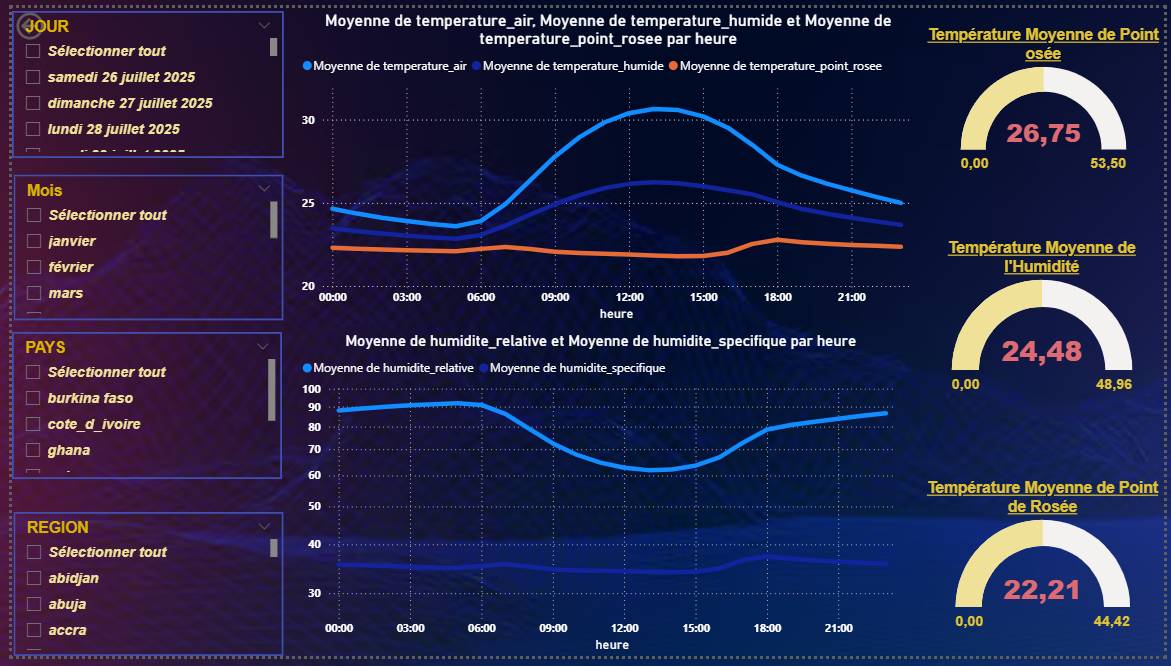

The page's visual inventory and layout, read from the dashboard file:
{"tool":"powerbi","page":{"name":"Température & Humidité","canvas":[1280,720],"ordinal":0},"visuals":[{"type":"gauge","title":"Température Moyenne de Point osée","fields":{"Y":["Avg(Météo_project.temperature_air)"]},"box":[1011.7,20,268.3,170],"z":0},{"type":"gauge","title":"Température Moyenne de l''Humidité","fields":{"Y":["Avg(Météo_project.temperature_humide)"]},"box":[1008.3,256.7,271.7,178.3],"z":1000},{"type":"lineChart","fields":{"Category":["Météo_project.heure"],"Y":["Avg(Météo_project.temperature_air)","Avg(Météo_project.temperature_humide)","Avg(Météo_project.temperature_point_rosee)"]},"box":[316.7,3.3,691.7,348.3],"z":2000},{"type":"lineChart","fields":{"Category":["Météo_project.heure"],"Y2":["Avg(Météo_project.humidite_specifique)"],"Y":["Avg(Météo_project.humidite_relative)"]},"box":[316.7,360,675,360],"z":3000},{"type":"actionButton","box":[0,0,100,40],"z":4000},{"type":"gauge","title":"Température Moyenne de Point de Rosée","fields":{"Y":["Météo_project.Température Moyenne de point_rosee"]},"box":[1010,523.3,270,175],"z":5000},{"type":"slicer","fields":{"Values":["Météo_project.date"]},"box":[0,3.3,301.7,163.3],"z":6000},{"type":"slicer","fields":{"Values":["Météo_project.pays"]},"box":[0,360.4,299.8,163.5],"z":7000},{"type":"slicer","fields":{"Values":["Météo_project.ville"]},"box":[1.7,560,300,160],"z":8000},{"type":"slicer","fields":{"Values":["Météo_project.date.Variation.Hiérarchie de dates.Mois"]},"box":[1.7,185,300,161.7],"z":9000}]}

Visuals, with their boxes in screenshot pixels (x1, y1, x2, y2), scaled from the page's 1280x720 canvas onto the 1171x666 screenshot:
"Température Moyenne de Point osée" gauge: region(926, 18, 1170, 176)
"Température Moyenne de l''Humidité" gauge: region(922, 237, 1170, 402)
lineChart - Météo_project.heure x Avg(Météo_project.temperature_air): region(290, 3, 923, 325)
lineChart - Météo_project.heure x Avg(Météo_project.humidite_specifique): region(290, 333, 907, 665)
actionButton: region(0, 0, 91, 37)
"Température Moyenne de Point de Rosée" gauge: region(924, 484, 1170, 646)
slicer - Météo_project.date: region(0, 3, 276, 154)
slicer - Météo_project.pays: region(0, 333, 274, 485)
slicer - Météo_project.ville: region(2, 518, 276, 665)
slicer - Météo_project.date.Variation.Hiérarchie de dates.Mois: region(2, 171, 276, 321)
